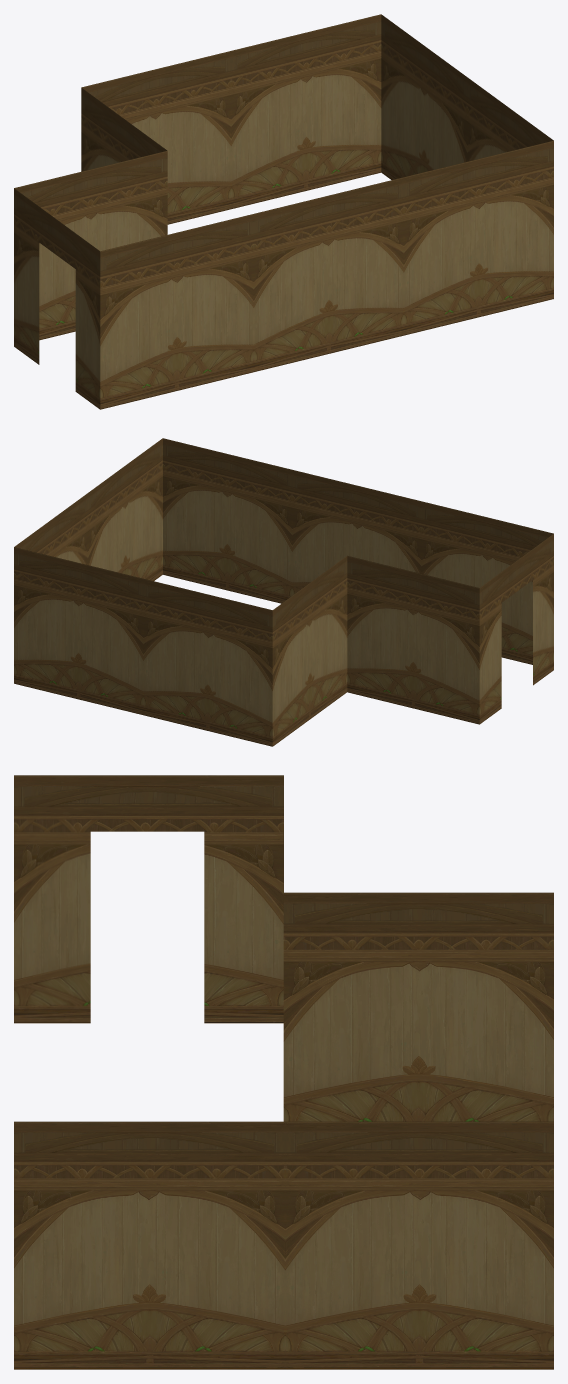
Rendered from Homeworld_Interior_Xm_Room_G_Filling_01_Vo.fbx.
The picture shows the model from 3 angles, top to bottom: view 1: azimuth 30°, elevation 25°; view 2: azimuth 150°, elevation 25°; view 3: azimuth 270°, elevation 25°; orthographic projection. The views are drawn at different scales.
Parts seen in each view (by area): view 1: Homeworld_Interior_Xm_Room_G_Filling_01_Vo; view 2: Homeworld_Interior_Xm_Room_G_Filling_01_Vo; view 3: Homeworld_Interior_Xm_Room_G_Filling_01_Vo.
Part boxes in pixels (x1,y1,x2,y2): Homeworld_Interior_Xm_Room_G_Filling_01_Vo: (14,14,553,409); Homeworld_Interior_Xm_Room_G_Filling_01_Vo: (14,438,553,746); Homeworld_Interior_Xm_Room_G_Filling_01_Vo: (14,775,553,1369).
Size of the model in its own units: 14.93 by 4.98 by 9.84.
